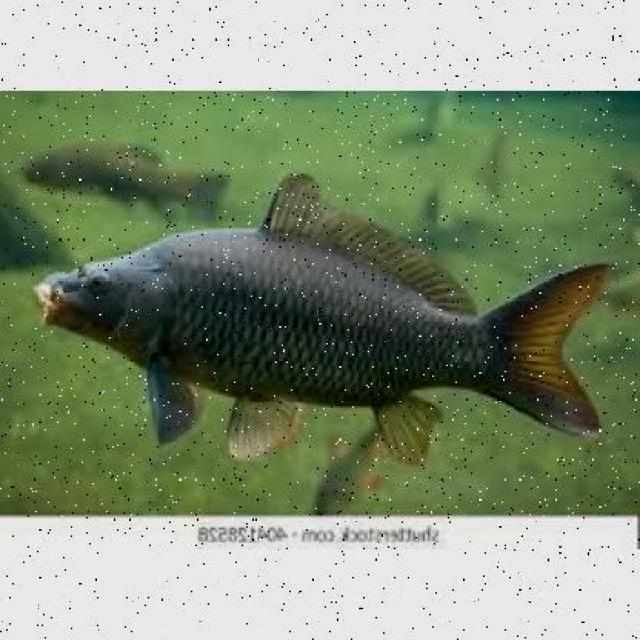ikan-mas: (34, 202, 612, 456)
